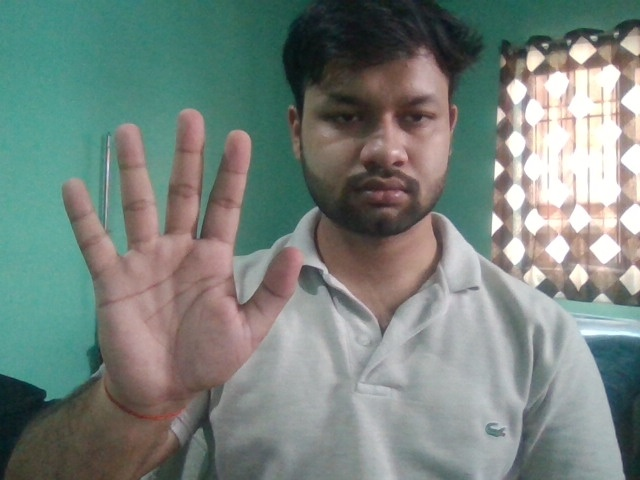Hello: (60, 107, 305, 403)
